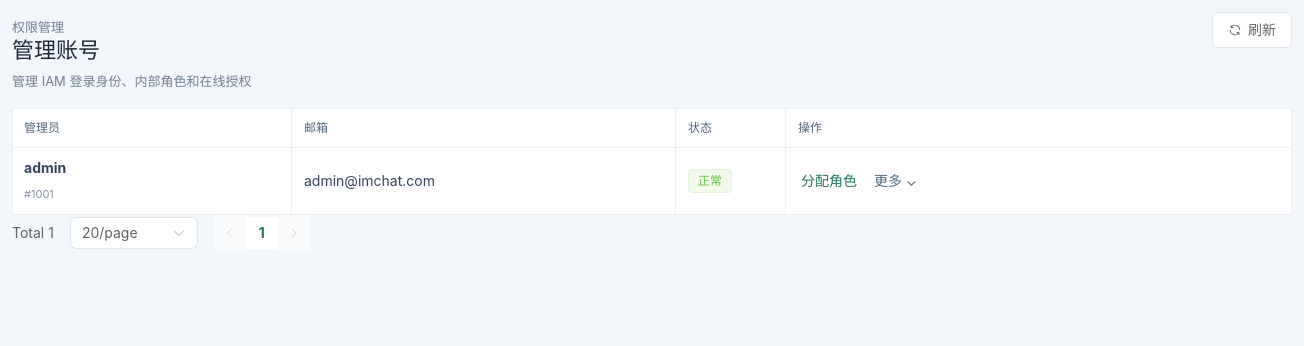
administrator workspace › preserves prior administrators when refresh fails
This screenshot has width=1304, height=346.
Click the button with test id "refresh-administrators". click: (1252, 30)
box: [1212, 12, 1292, 48]
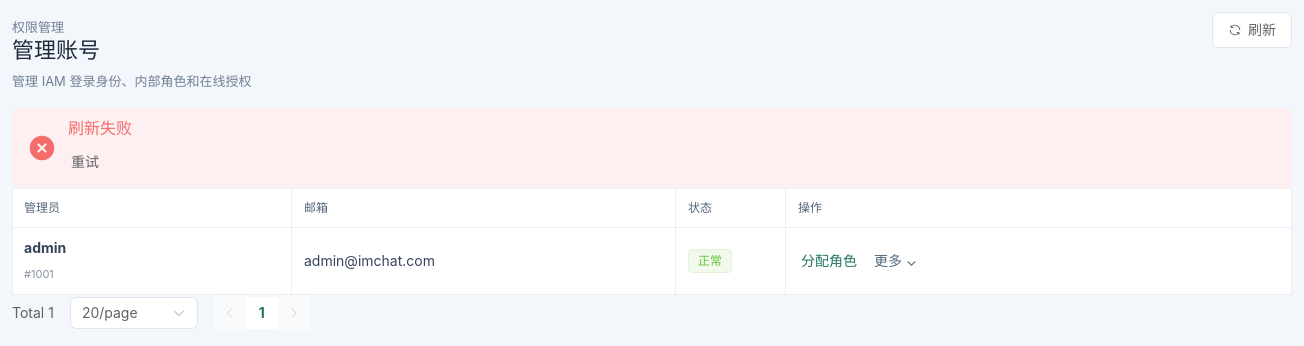
Expected: the text "admin@imchat.com" is shown, [304, 252, 435, 269]
Result: the text "刷新失败" is shown at [68, 116, 132, 140]
